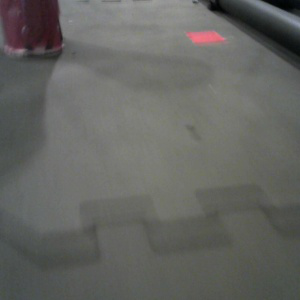Middle: (1, 1, 64, 58)
